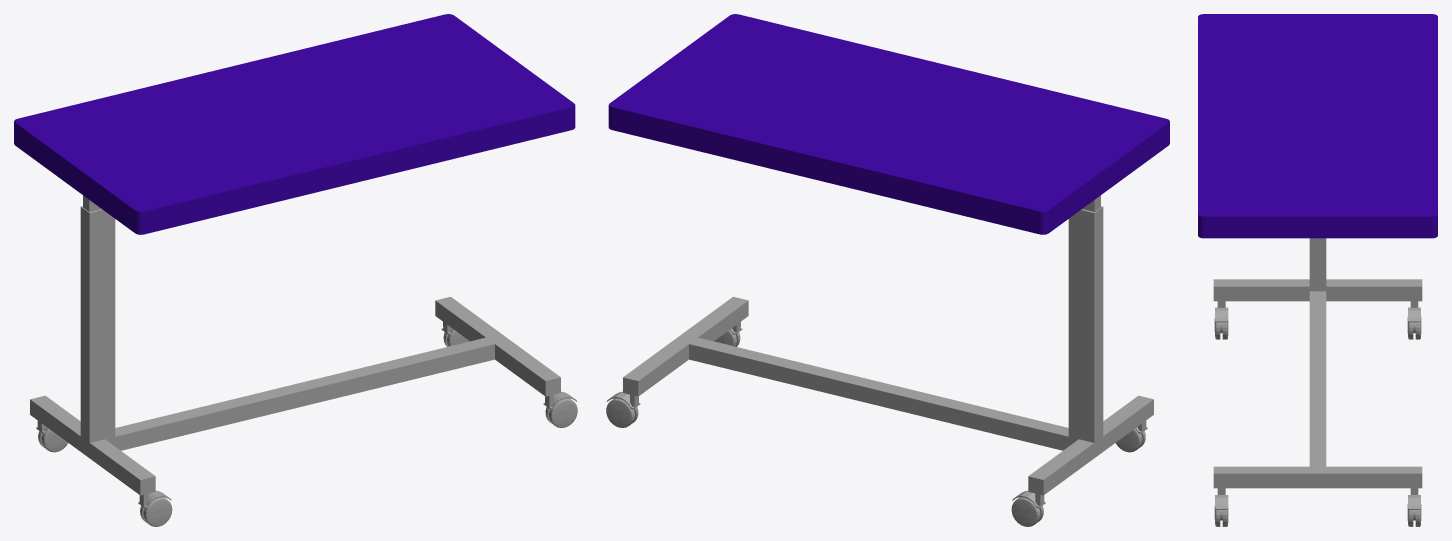
The model's file is HospitalTable.fbx.
3 views of the same model, side by side, from view 1: azimuth 30°, elevation 25°; view 2: azimuth 150°, elevation 25°; view 3: azimuth 270°, elevation 25° (orthographic). The views are drawn at different scales.
Parts seen in each view (by area): view 1: Wheel7; view 2: Wheel7; view 3: Wheel7.
Part boxes in pixels (left/top/right/bottom): Wheel7: left=14, top=14, right=577, bottom=526; Wheel7: left=606, top=14, right=1169, bottom=526; Wheel7: left=1198, top=14, right=1437, bottom=526.
Size of the model in its own units: 186 by 130 by 90.75.
